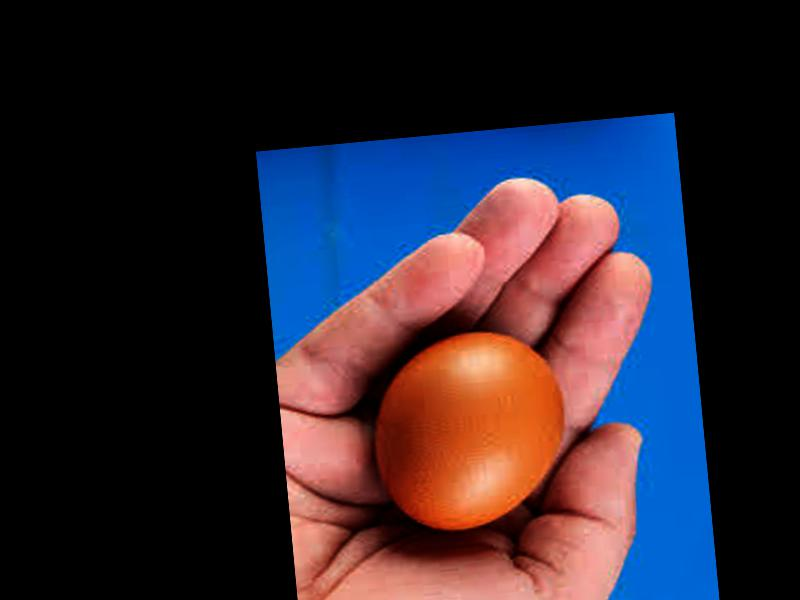Eggs: (369, 321, 573, 535)
